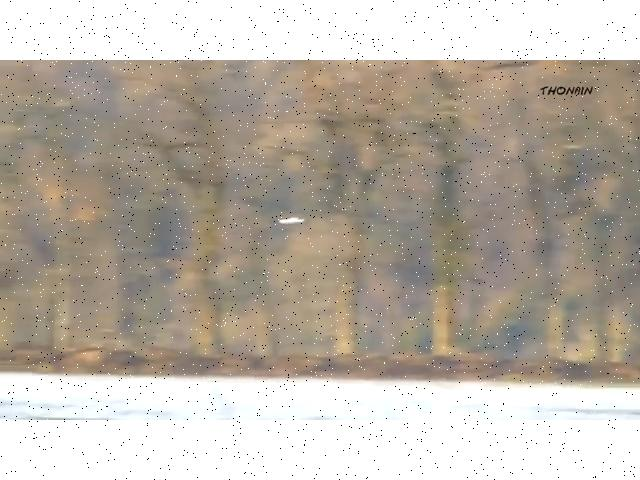Anti-Drone: (271, 200, 317, 238)
